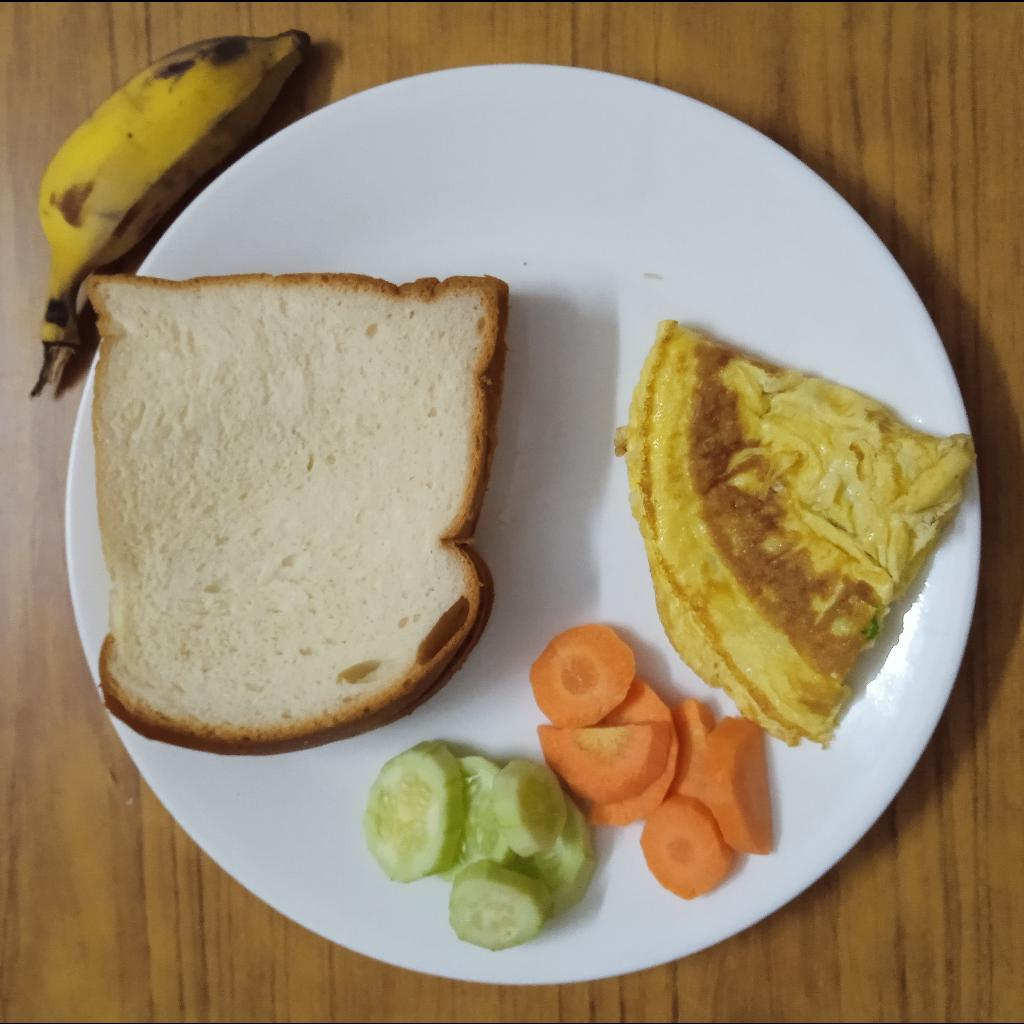banana: (33, 26, 311, 397)
bread: (86, 272, 511, 756)
carrot: (528, 624, 771, 904)
cucumber: (363, 740, 597, 952)
egg-poached: (615, 319, 975, 750)
